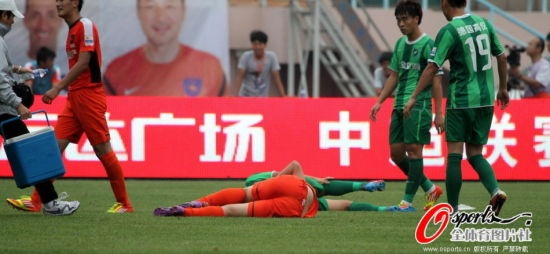falling: (153, 160, 399, 220)
